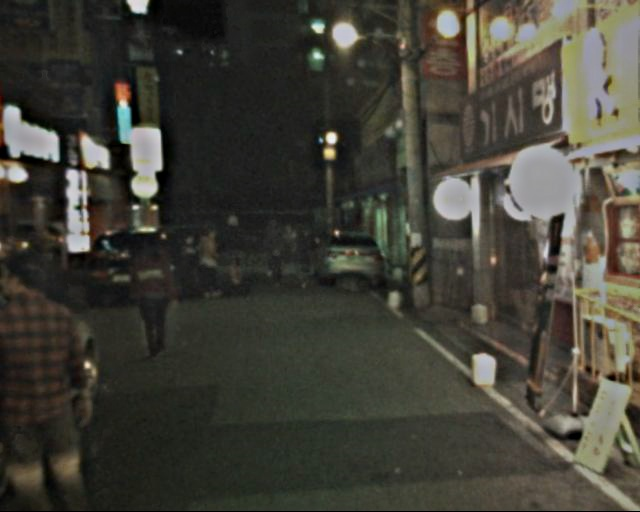person: (1, 243, 109, 512), (133, 233, 181, 349), (193, 220, 228, 302), (218, 210, 252, 292), (261, 212, 288, 290), (291, 222, 318, 295)
